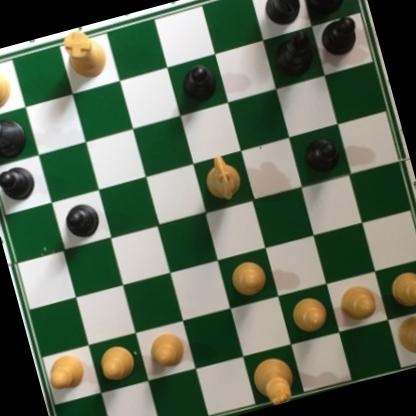black-bishop: (263, 25, 318, 82)
black-king: (0, 102, 33, 169)
black-knight: (256, 0, 309, 32)
black-pawn: (314, 12, 365, 62), (174, 59, 222, 108), (300, 133, 344, 178), (59, 199, 102, 244), (0, 162, 40, 207)
black-rook: (296, 0, 358, 21)
white-king: (247, 352, 300, 410)
white-knight: (199, 151, 246, 207)
white-pawn: (40, 348, 91, 395), (334, 279, 382, 327), (285, 290, 332, 337), (144, 327, 190, 373), (226, 257, 273, 300), (94, 340, 139, 384), (383, 268, 416, 313)
white-queen: (0, 48, 19, 116)
white-rook: (55, 24, 110, 86), (389, 304, 416, 366)
